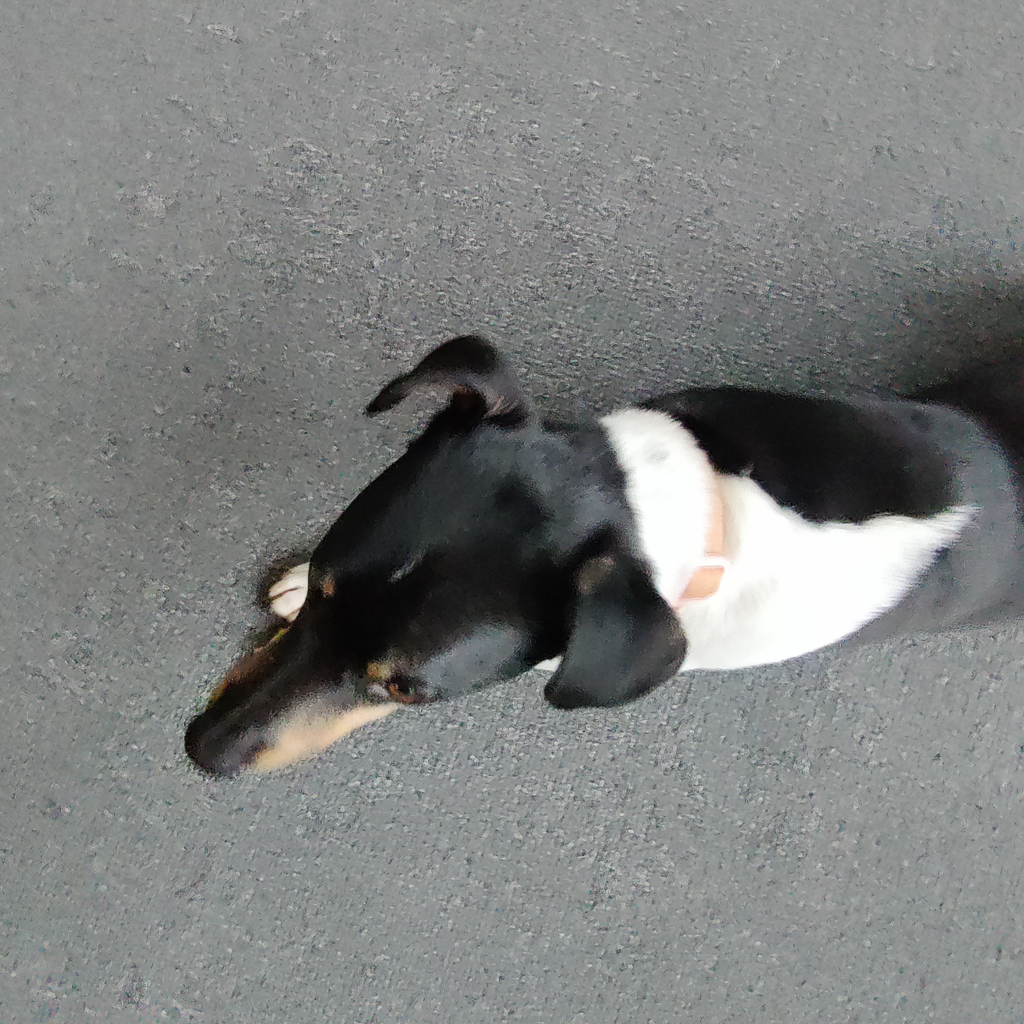Dog: (132, 303, 1024, 794)
